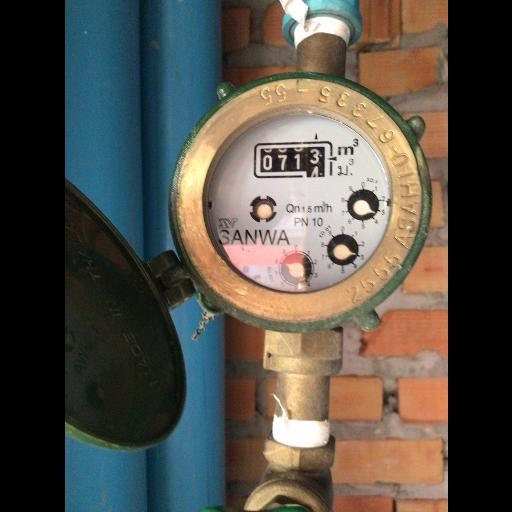0: (260, 148, 275, 172)
1: (290, 147, 307, 171)
3: (306, 147, 325, 178)
7: (273, 148, 289, 172)
border_water_meter_number: (252, 142, 332, 179)
